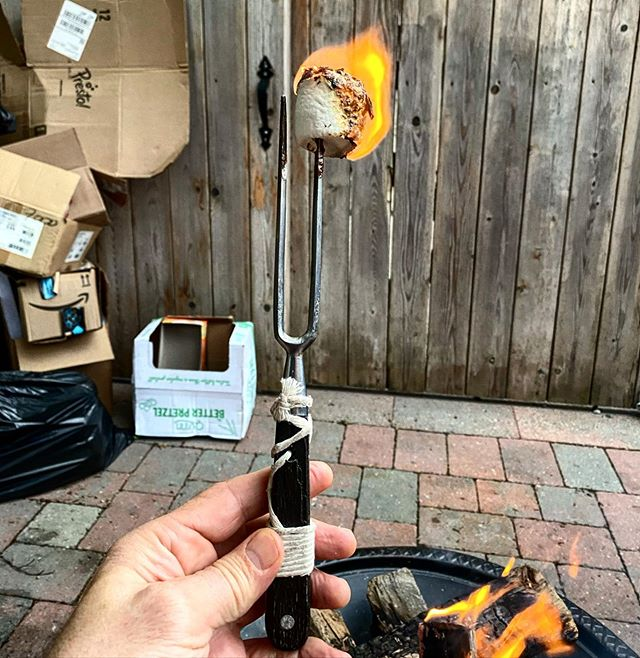fire: (284, 28, 410, 186)
fireplace: (268, 538, 555, 658)
marshmallow: (283, 39, 388, 174)
trash: (1, 1, 246, 456)
